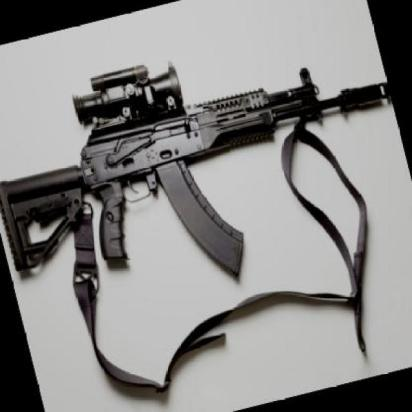Gun: (0, 0, 412, 322)
